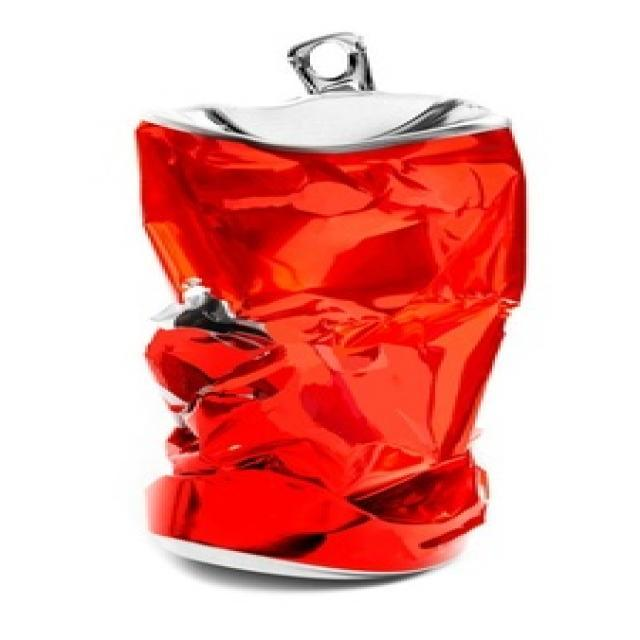can: (109, 9, 539, 593)
